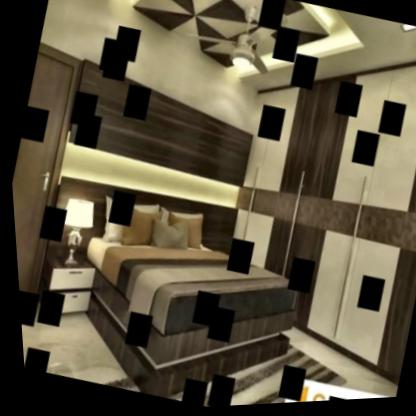Bed: (58, 180, 313, 414)
Closet: (279, 42, 416, 381)
Lamp: (39, 185, 103, 273)
Nightstand: (20, 246, 101, 331)
